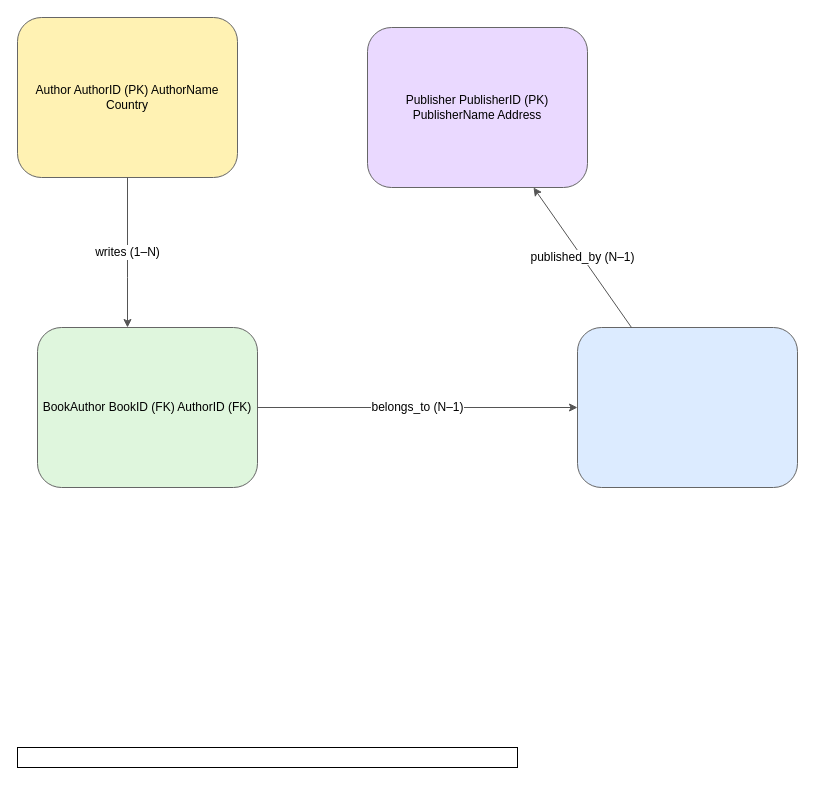
Image size: 815x785. Some labels were removed from this diagram. The shapes that lost their labels are listed below. From the top down, each one's centre as x and y in pixels, then its label:
the point at 687,407: Book BookID (PK) Title Price PublicationDate PublisherID (FK)
the point at 267,757: Library ER Diagram – Created by Phạm Huyền
